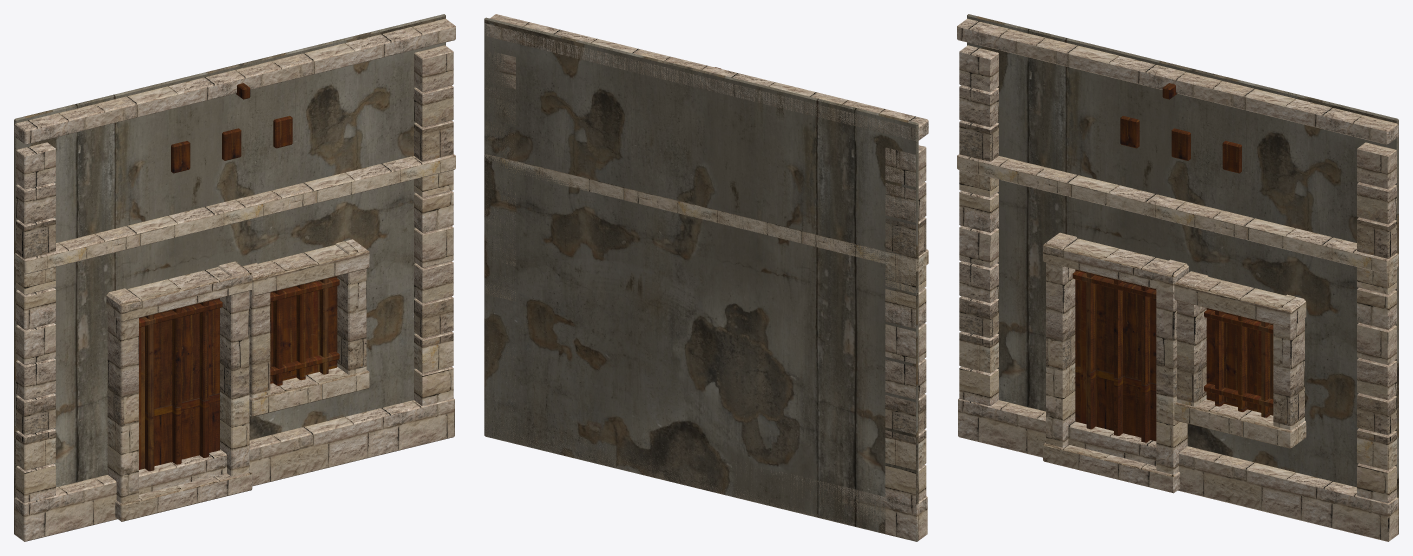
File: rug-east.glb
The picture shows the model from 3 angles, left to right: view 1: azimuth 30°, elevation 25°; view 2: azimuth 150°, elevation 25°; view 3: azimuth 330°, elevation 25°; orthographic projection.
Parts seen in each view (by area): view 1: Weathered wall face; view 2: Weathered wall face; view 3: Weathered wall face.
Boxes of the visible parts, x1,y1,x2,y2 form: Weathered wall face: [14, 14, 455, 541]; Weathered wall face: [484, 14, 928, 541]; Weathered wall face: [957, 14, 1398, 541].
Size of the model in its own units: 4.88 by 4.5 by 0.35.
Materials: 3 (3 with a texture image).
